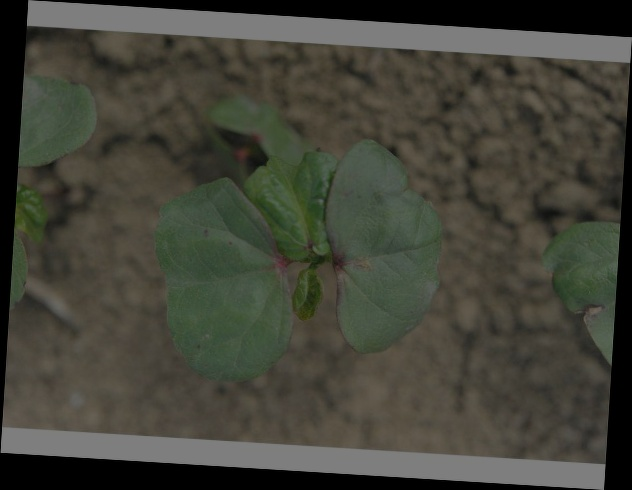cotton: (152, 129, 446, 391)
